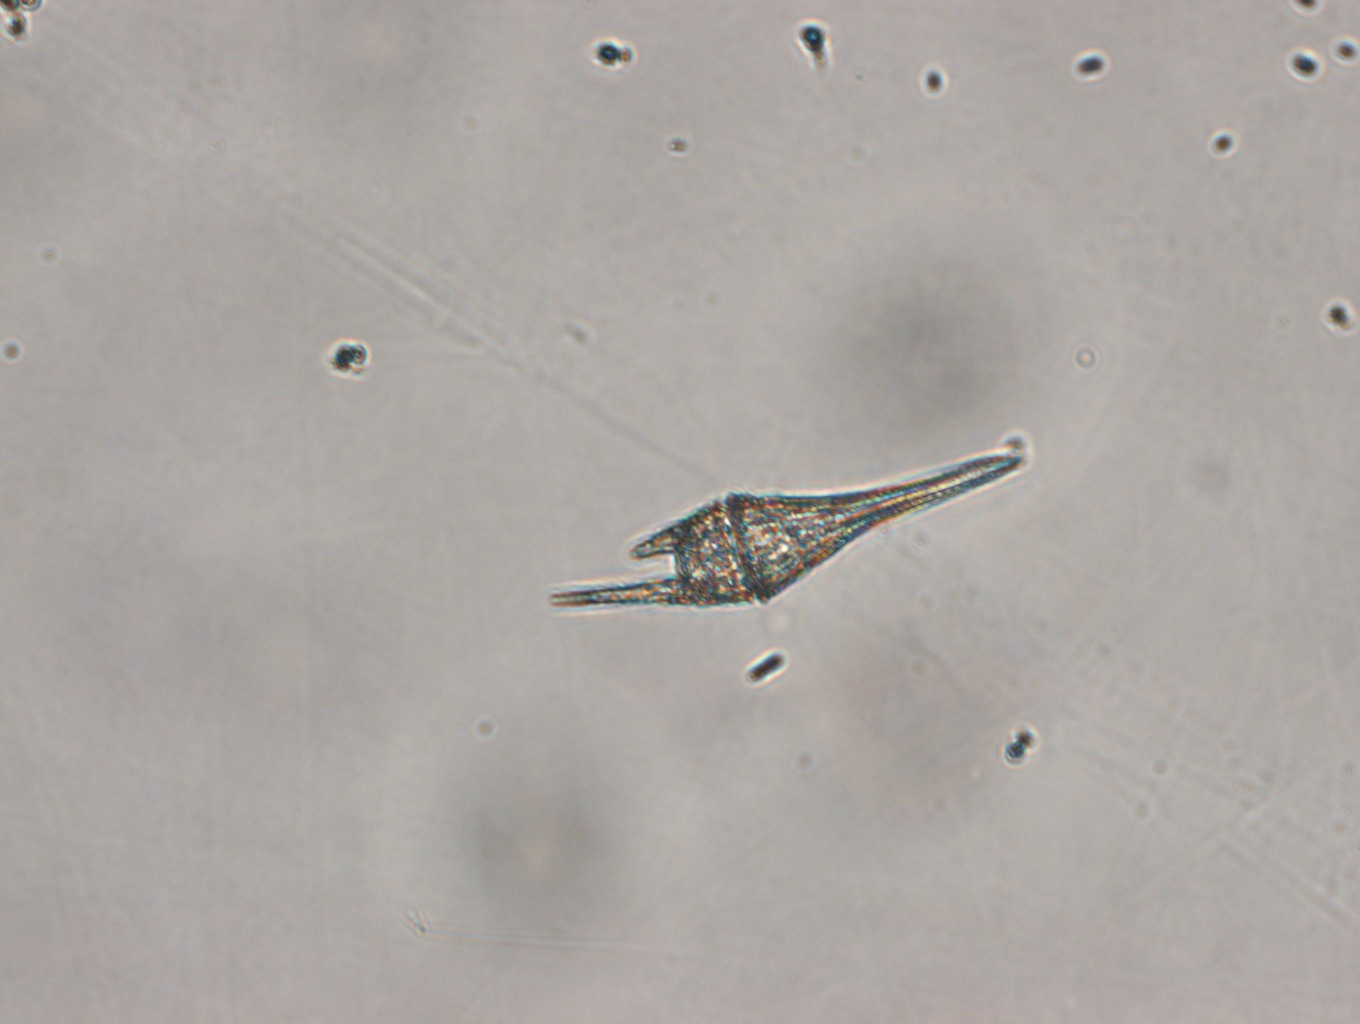ceratium furca: (550, 449, 1027, 608)
